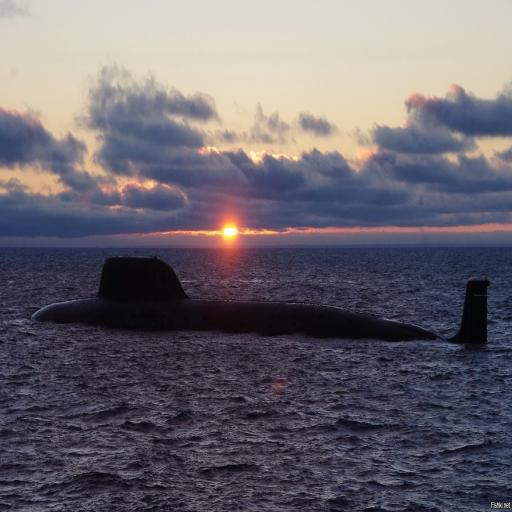submarine: (30, 252, 493, 342)
